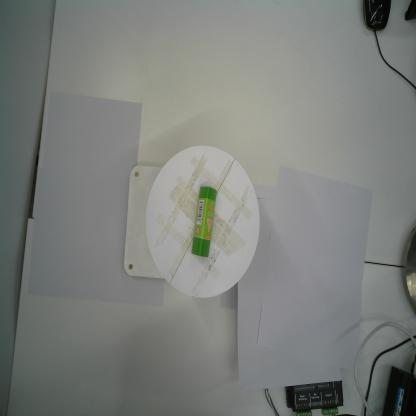Stationery: (191, 185, 217, 257)
